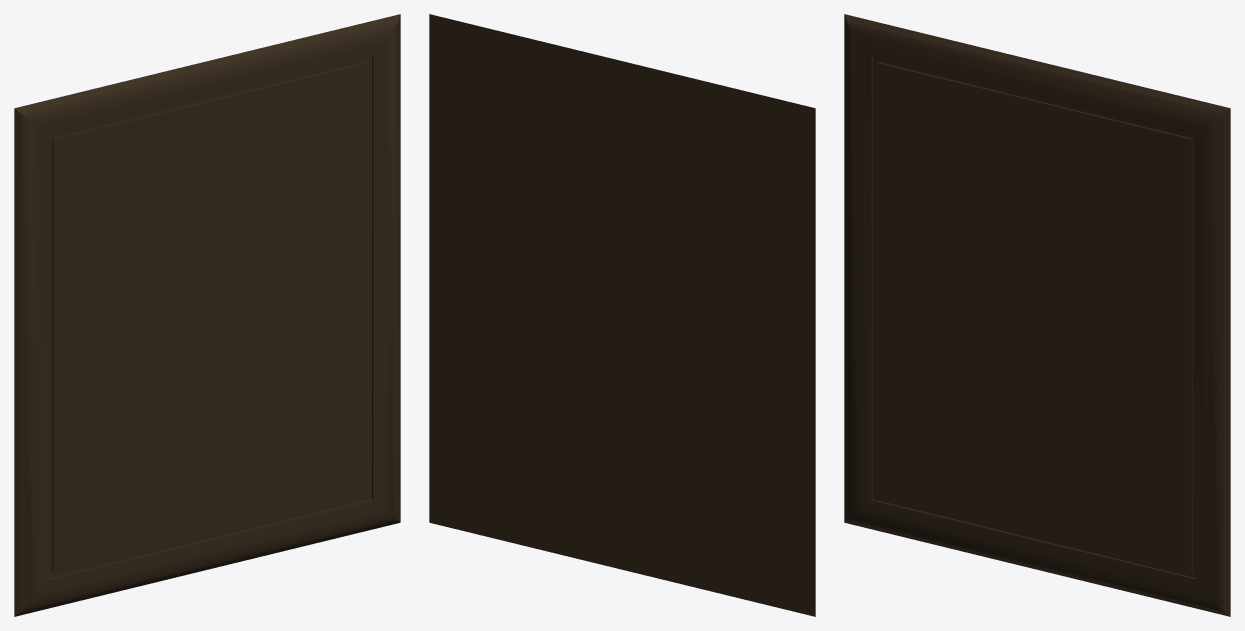
File: Bookcase_door_right.fbx
The picture shows the model from 3 angles, left to right: view 1: azimuth 30°, elevation 25°; view 2: azimuth 150°, elevation 25°; view 3: azimuth 330°, elevation 25°; orthographic projection.
Parts seen in each view (by area): view 1: Bookcase_door_right; view 2: Bookcase_door_right; view 3: Bookcase_door_right.
Part boxes in pixels (left/top/right/bottom): Bookcase_door_right: left=14, top=14, right=400, bottom=616; Bookcase_door_right: left=429, top=14, right=815, bottom=616; Bookcase_door_right: left=844, top=14, right=1230, bottom=616.
Bounding box in the file's own units: 42.21 × 53.06 × 0.75.
